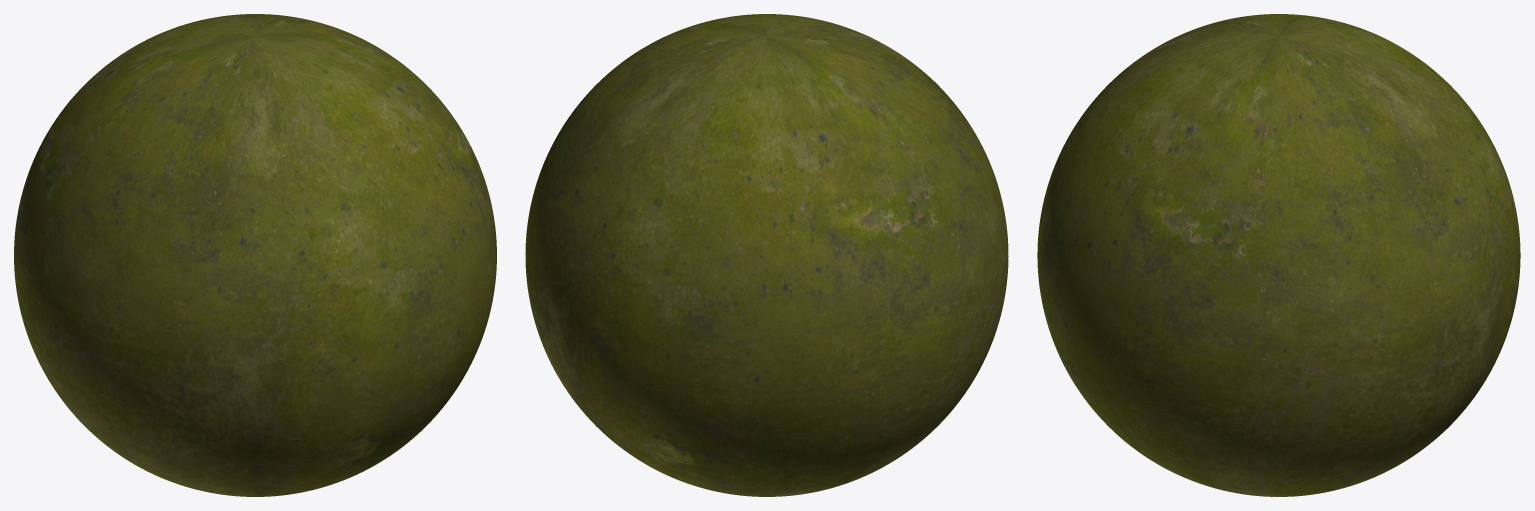
File: concrete_moss_1k.gltf
3 renders of one model, left to right at view 1: azimuth 30°, elevation 25°; view 2: azimuth 150°, elevation 25°; view 3: azimuth 270°, elevation 25°, orthographic.
Parts seen in each view (by area): view 1: sphere_gltf; view 2: sphere_gltf; view 3: sphere_gltf.
Part boxes in pixels (x1,y1,x2,y2): sphere_gltf: (14, 14, 496, 496); sphere_gltf: (525, 14, 1008, 496); sphere_gltf: (1037, 14, 1520, 496).
Size of the model in its own units: 3 by 3 by 3.
Materials: 1 (1 with a texture image).
